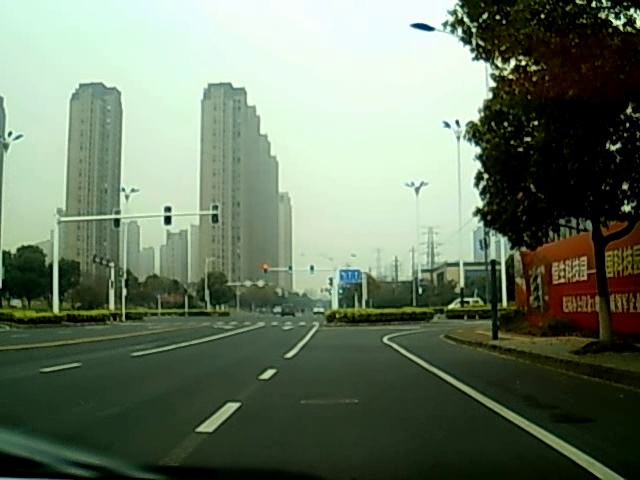Traffic_Light_go: (309, 265, 315, 276), (288, 265, 293, 275)
Traffic_Light_stop: (262, 263, 269, 276)
